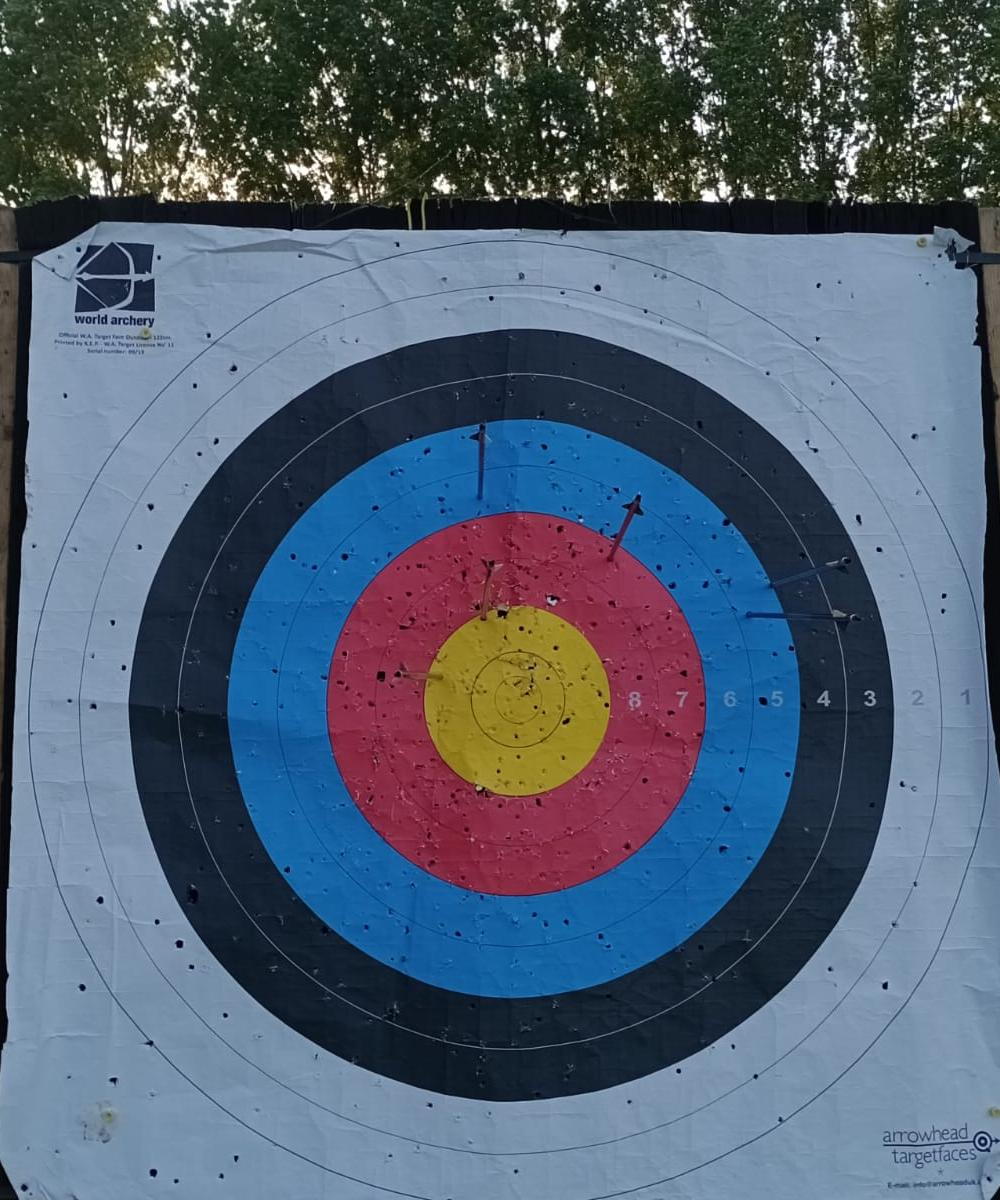1-Ring: (27, 245, 987, 1200)
10-Ring: (470, 651, 568, 750)
2-Ring: (69, 278, 951, 1165)
3-Ring: (130, 333, 894, 1102)
4-Ring: (183, 378, 845, 1052)
5-Ring: (228, 422, 799, 997)
6-Ring: (279, 468, 753, 946)
7-Ring: (298, 488, 734, 923)
8-Ring: (340, 526, 696, 883)
9-Ring: (426, 607, 611, 798)
Arrow: (593, 490, 651, 560), (748, 602, 868, 634), (770, 555, 853, 587), (463, 556, 503, 621), (463, 423, 492, 498), (389, 660, 442, 699)
